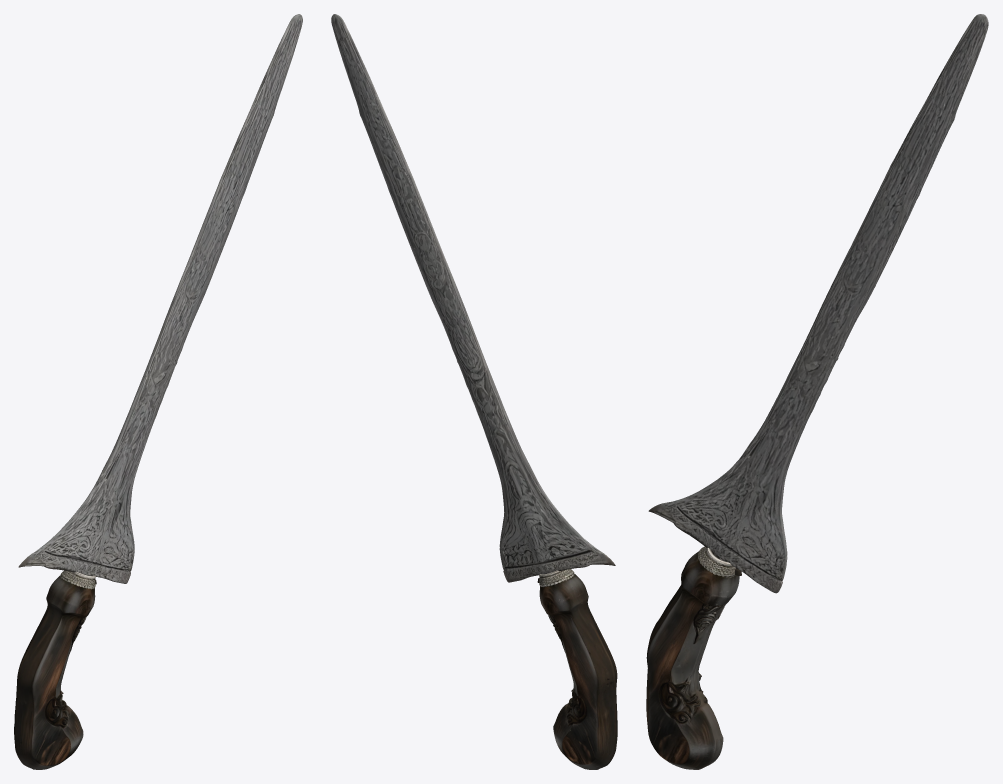
File: keris-1-fixed.glb
3 views of the same model, side by side, from view 1: azimuth 30°, elevation 25°; view 2: azimuth 150°, elevation 25°; view 3: azimuth 330°, elevation 25° (orthographic). The views are drawn at different scales.
Visible parts, largest first — view 1: node_0.002; view 2: node_0.002; view 3: node_0.002.
Part boxes in pixels (<box>): node_0.002: <box>14,14,302,769</box>; node_0.002: <box>331,14,617,769</box>; node_0.002: <box>646,14,988,769</box>.
Bounding box in the file's own units: 0.3243 × 0.7485 × 0.0426.
Materials: 2 (2 with a texture image).
